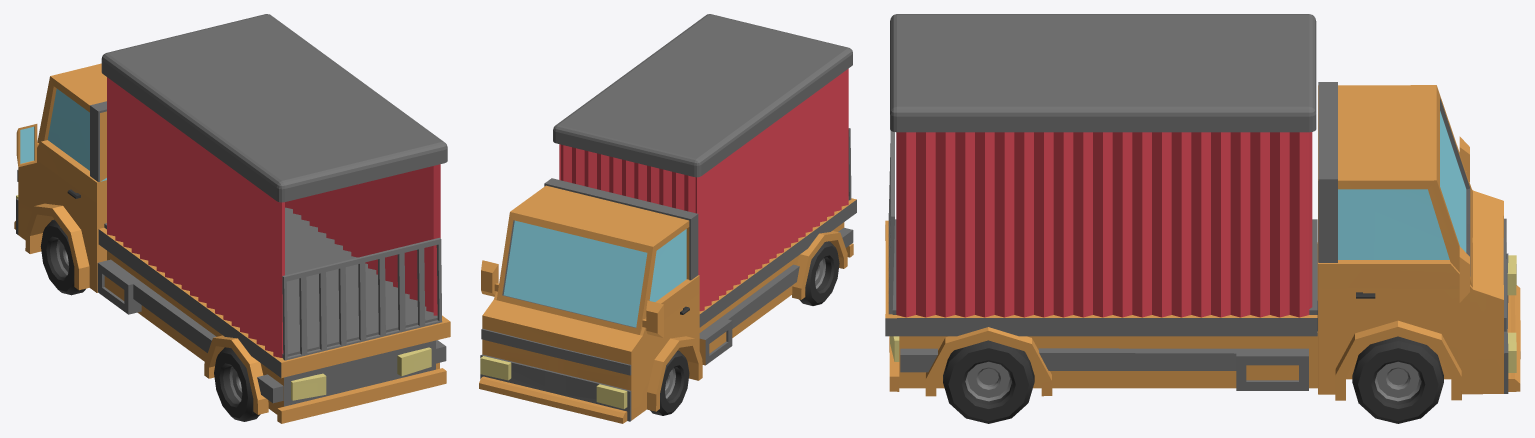
Rendered from truck_closed.fbx.
3 views of the same model, side by side, from view 1: azimuth 30°, elevation 25°; view 2: azimuth 150°, elevation 25°; view 3: azimuth 270°, elevation 25° (orthographic). The views are drawn at different scales.
Visible parts, largest first — view 1: Plane.131, Plane.133, truck_seperate.003, Plane.130, Plane.134, truck_fl_wheel.003, truck_seperate.004, truck_seperate.005; view 2: truck_seperate.003, Plane.133, Plane.131, Plane.132, truck_fl_wheel.003, truck_seperate.004, truck_seperate.005; view 3: Plane.131, truck_seperate.003, Plane.133, truck_fl_wheel.003, truck_seperate.004, truck_seperate.005, Plane.134, Plane.130, Plane.132.
Boxes of the visible parts, x1=… form: Plane.131: x1=107, y1=77, x2=440, y2=357; Plane.133: x1=101, y1=14, x2=447, y2=202; truck_seperate.003: x1=14, y1=63, x2=450, y2=423; Plane.130: x1=104, y1=207, x2=437, y2=358; Plane.134: x1=282, y1=237, x2=442, y2=360; truck_fl_wheel.003: x1=40, y1=219, x2=260, y2=421; truck_seperate.004: x1=25, y1=203, x2=89, y2=290; truck_seperate.005: x1=204, y1=335, x2=439, y2=414; truck_seperate.003: x1=479, y1=178, x2=856, y2=423; Plane.133: x1=553, y1=14, x2=852, y2=177; Plane.131: x1=559, y1=68, x2=848, y2=311; Plane.132: x1=561, y1=144, x2=695, y2=212; truck_fl_wheel.003: x1=650, y1=241, x2=839, y2=415; truck_seperate.004: x1=647, y1=336, x2=702, y2=411; truck_seperate.005: x1=792, y1=231, x2=847, y2=299; Plane.131: x1=896, y1=132, x2=1309, y2=317; truck_seperate.003: x1=885, y1=82, x2=1520, y2=394; Plane.133: x1=890, y1=14, x2=1316, y2=132; truck_fl_wheel.003: x1=943, y1=336, x2=1443, y2=423; truck_seperate.004: x1=1335, y1=320, x2=1461, y2=400; truck_seperate.005: x1=925, y1=327, x2=1052, y2=396; Plane.134: x1=888, y1=131, x2=894, y2=314; Plane.130: x1=892, y1=219, x2=1317, y2=314; Plane.132: x1=1306, y1=132, x2=1312, y2=315.
Bounding box in the file's own units: 193 × 233 × 429.
